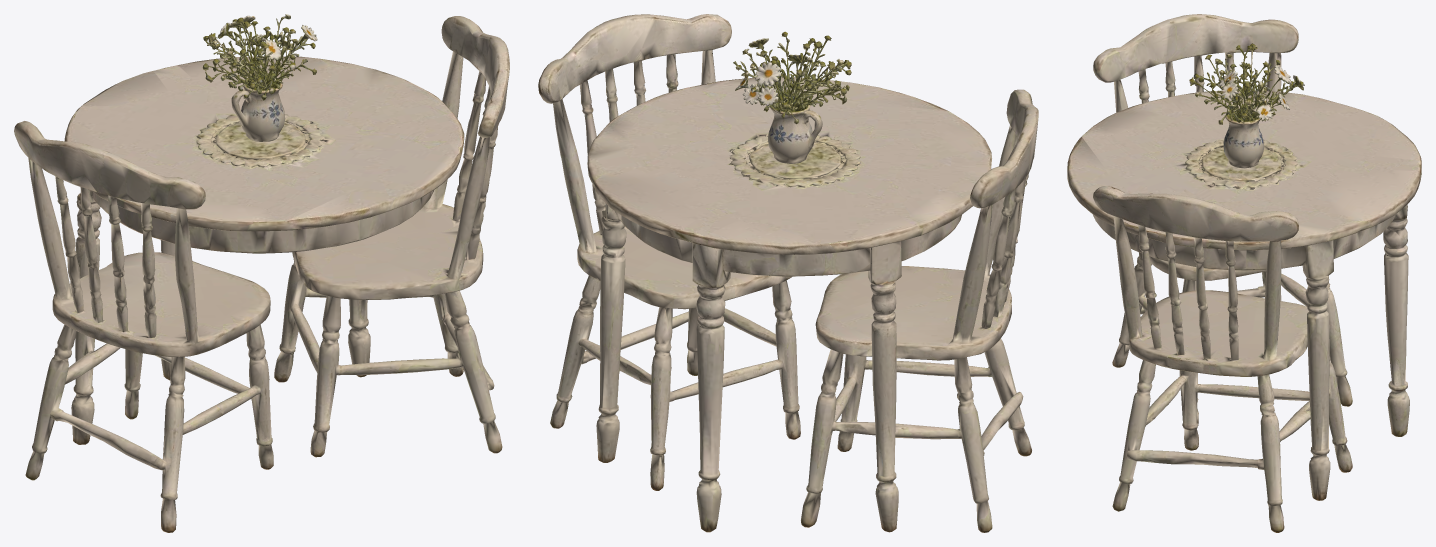
Rendered from k_table.glb.
The picture shows the model from 3 angles, left to right: view 1: azimuth 30°, elevation 25°; view 2: azimuth 150°, elevation 25°; view 3: azimuth 270°, elevation 25°; orthographic projection. The views are drawn at different scales.
Size of the model in its own units: 1.9 by 1.72 by 1.44.
Materials: 1 (1 with a texture image).
